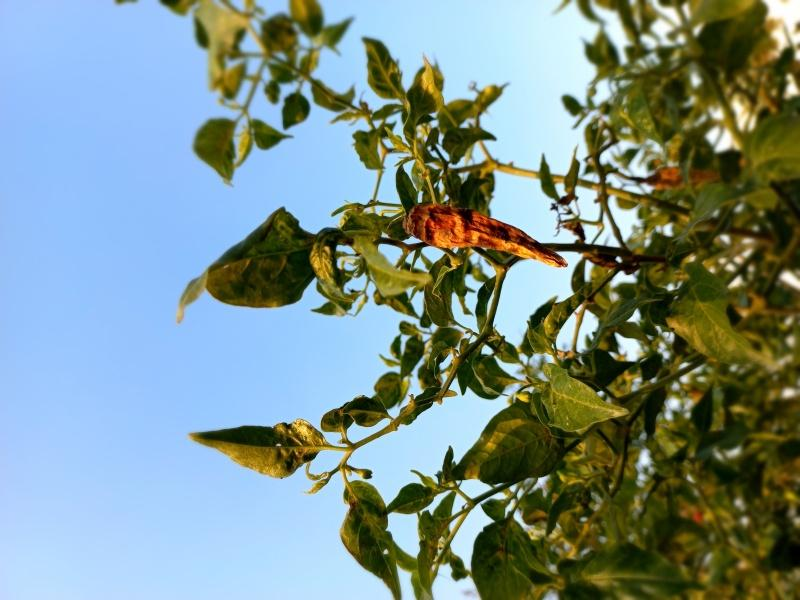antraknosa: (403, 198, 574, 273)
